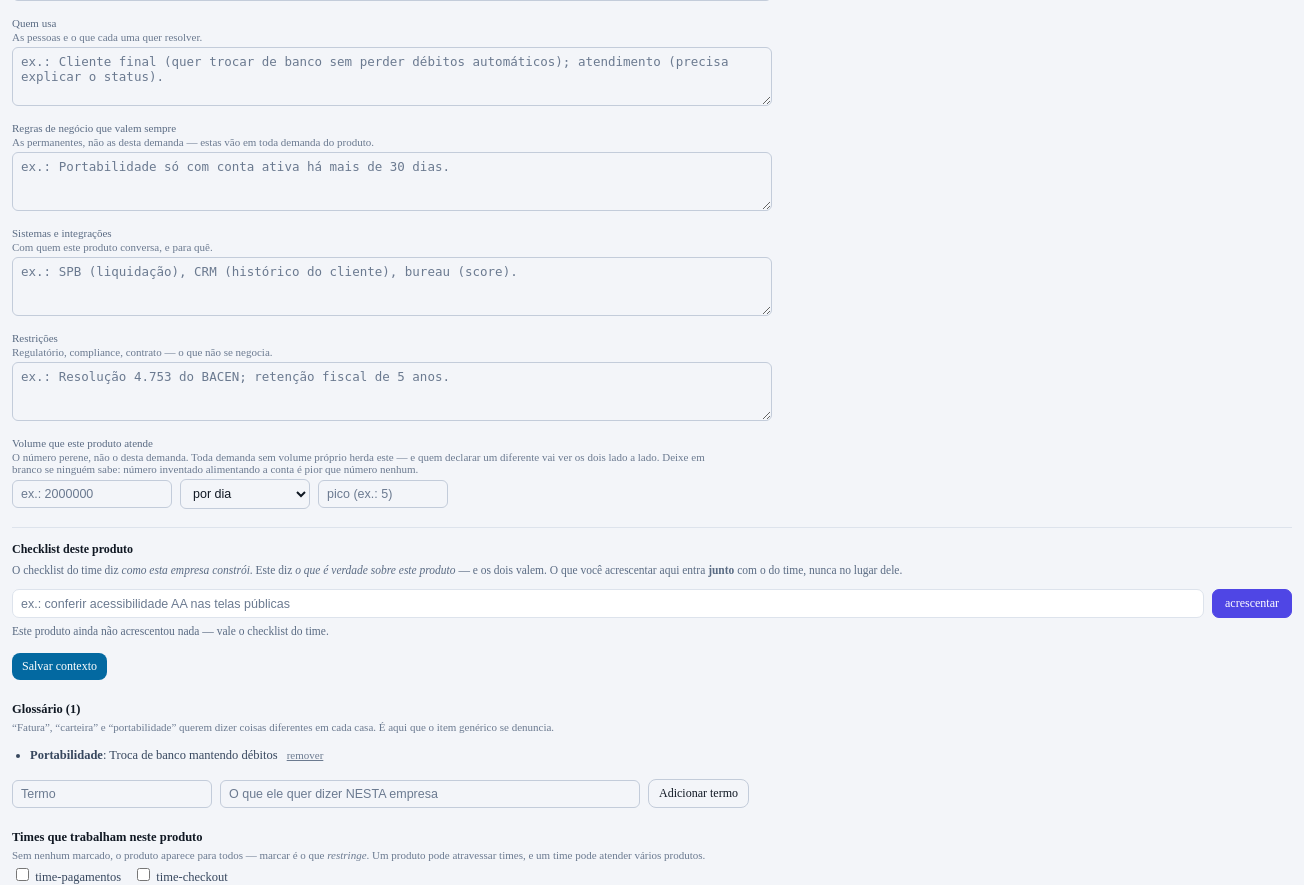
ProdutosTab — o que a releitura pode e não pode substituir › o glossário CONTINUA vindo do servidor — é o que o conserto óbvio quebrava
The width and height of the screenshot is (1304, 885).
(page scrolled)
Type "SPB" into the field labelled "Termo".
click(112, 794); type("SPB")  # box [12, 780, 212, 808]
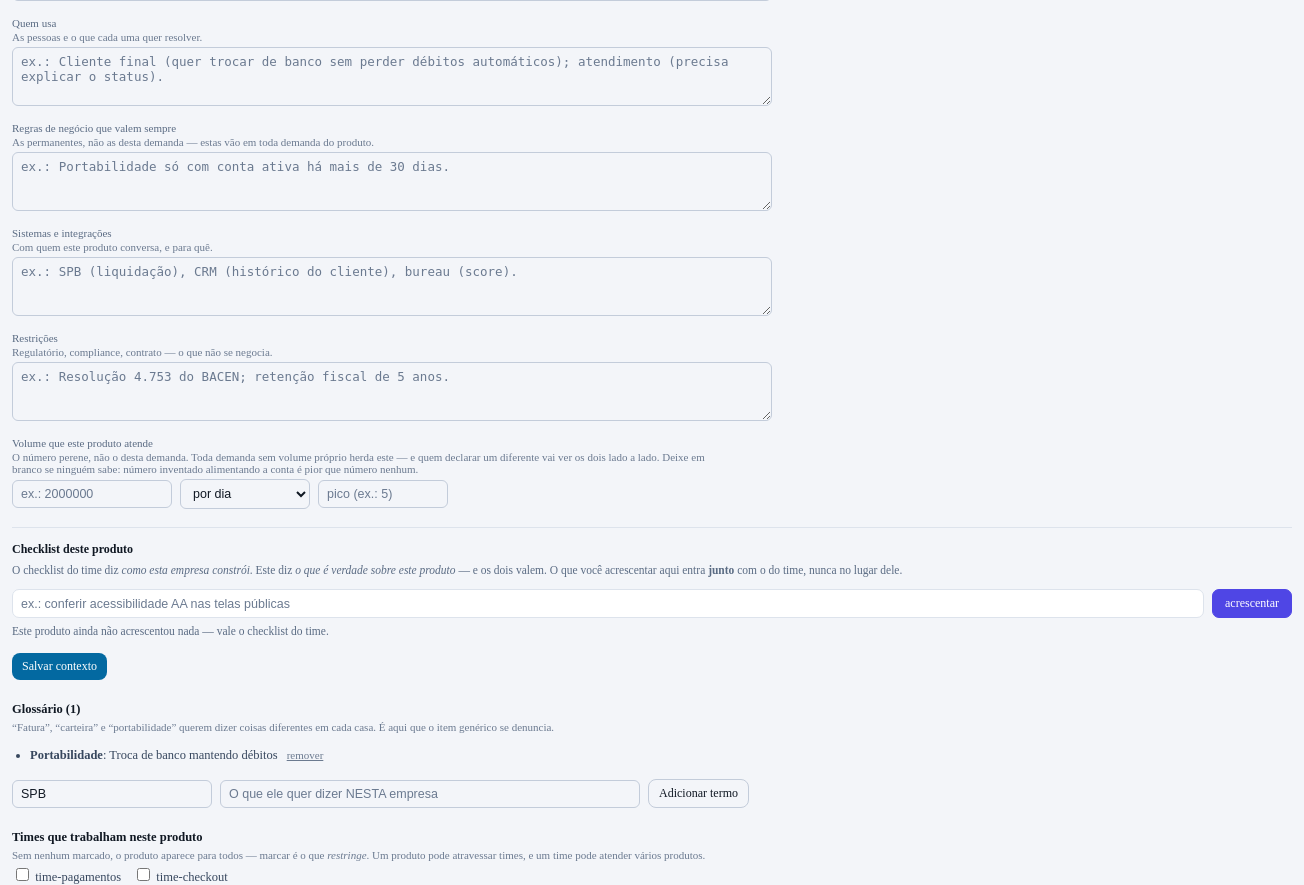
Type "Liquidação" into the field named "Definição".
click(430, 794); type("Liquidação")  # box [220, 780, 640, 808]
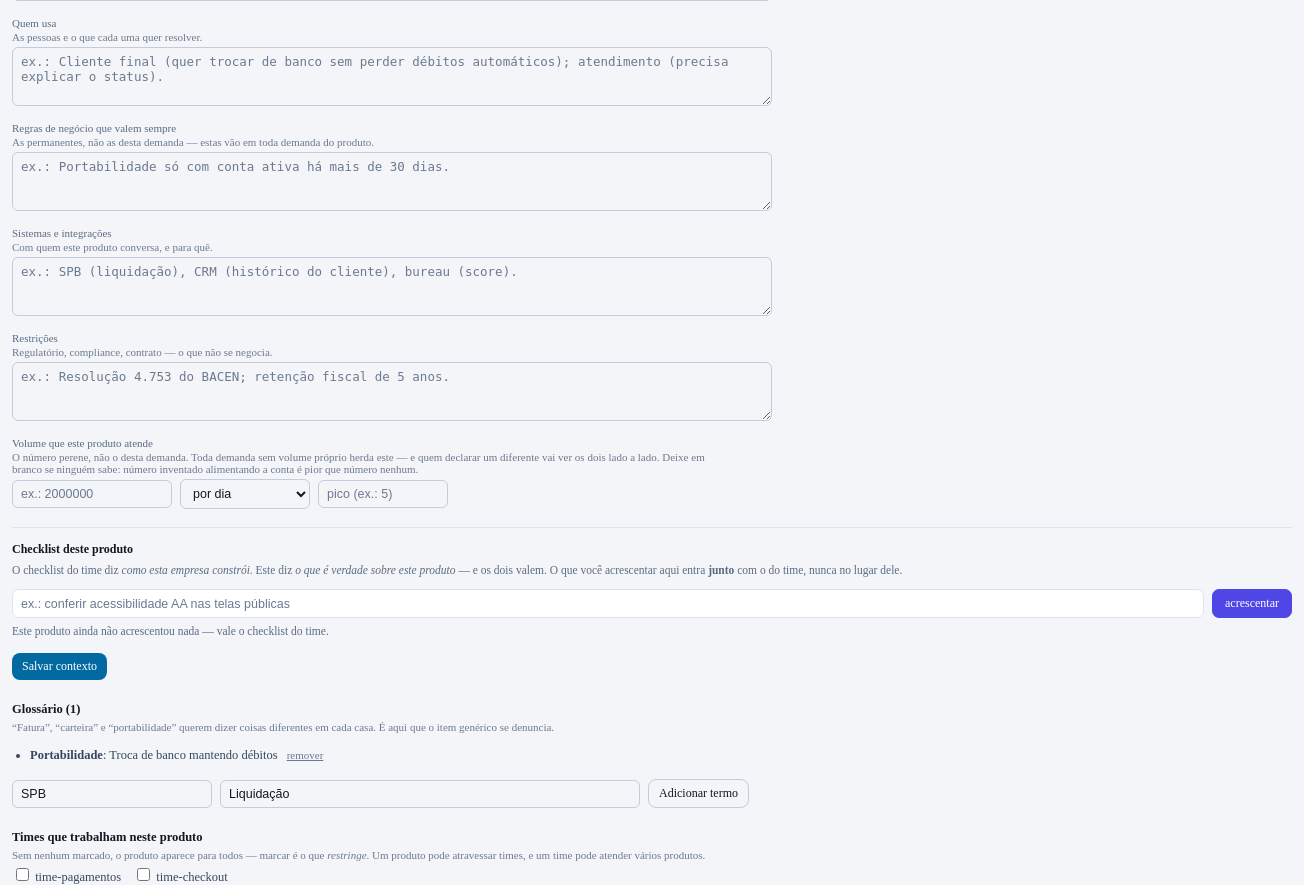
Click the button with test id "salvar-termo".
click(698, 794)  # box [648, 779, 749, 808]
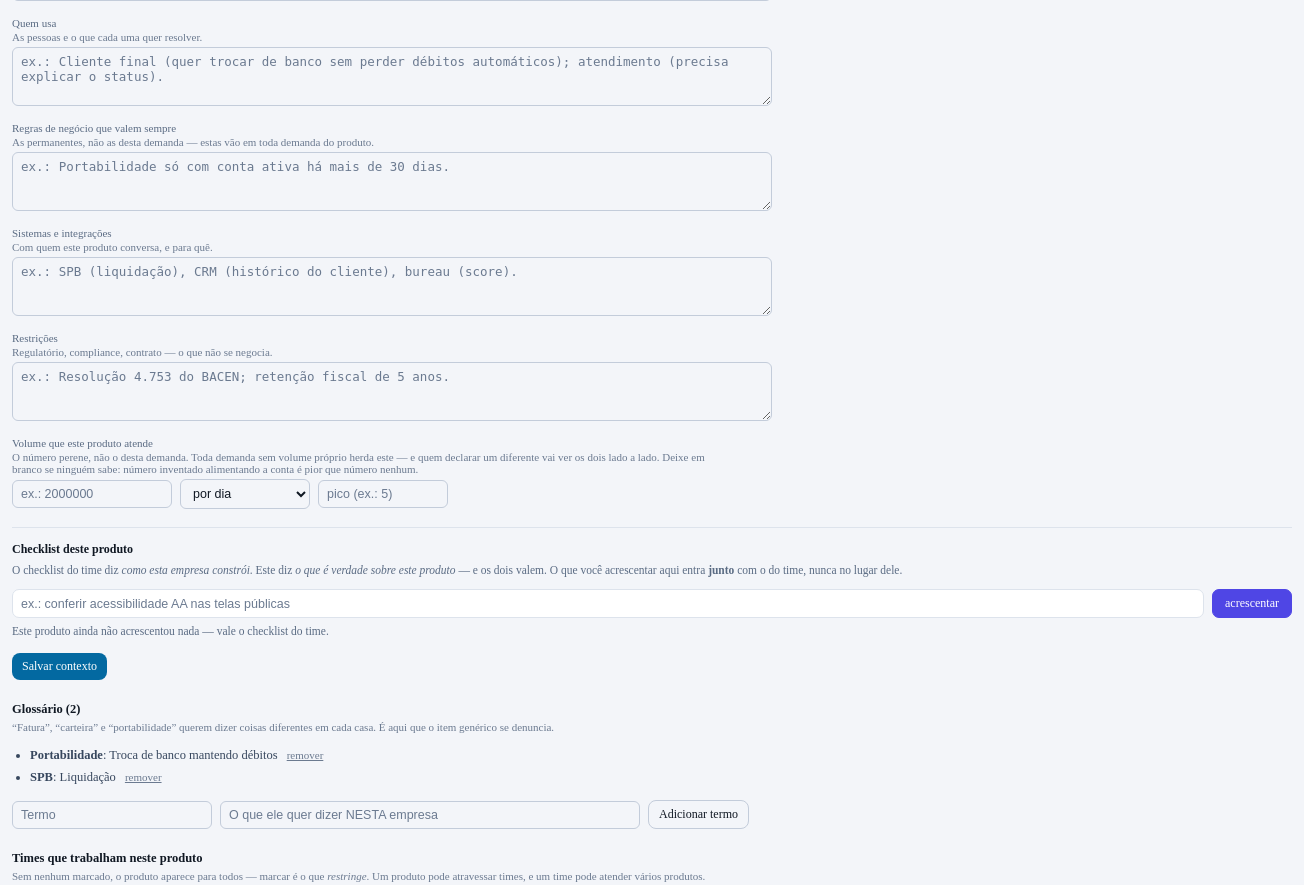
Check: the number of list items with test id "termo-do-glossario" is 2, box [30, 748, 329, 762]; [30, 770, 168, 784]
